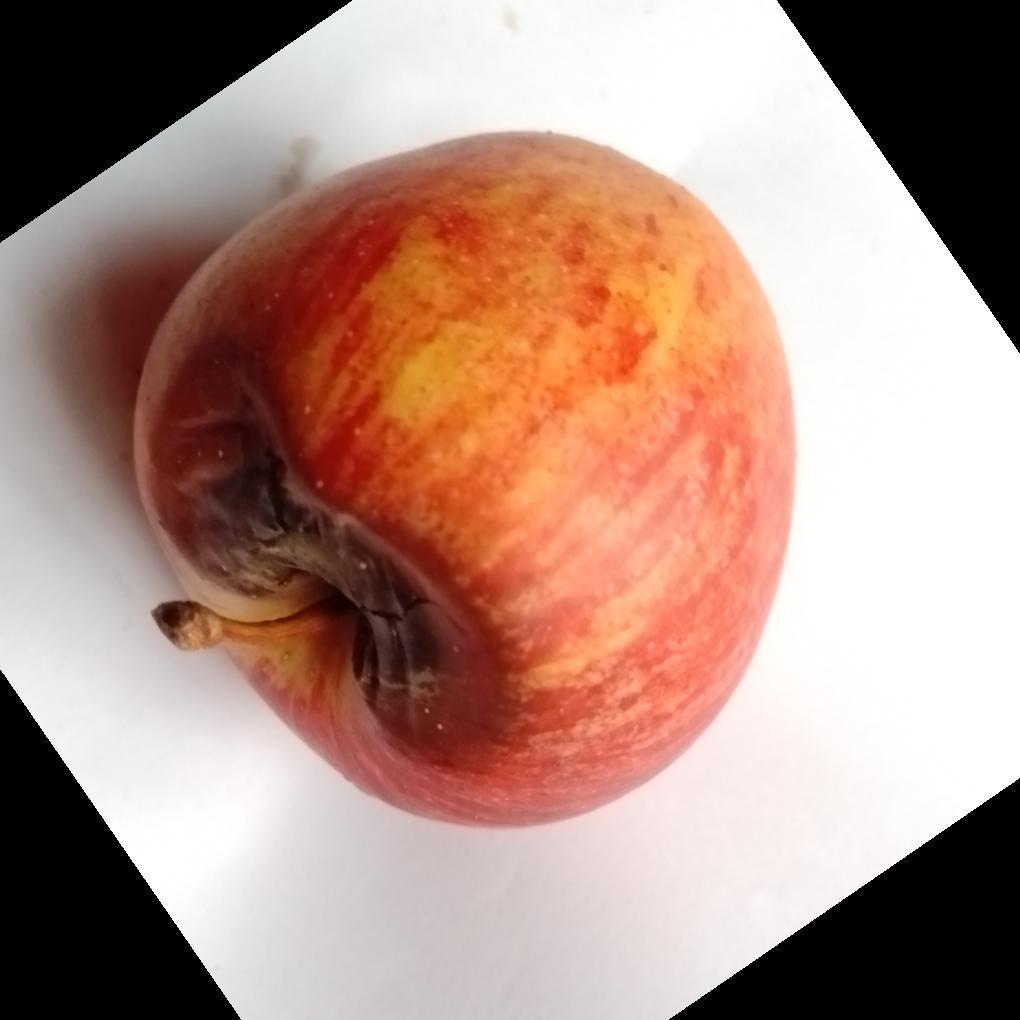FreshOrange: (129, 132, 801, 832)
